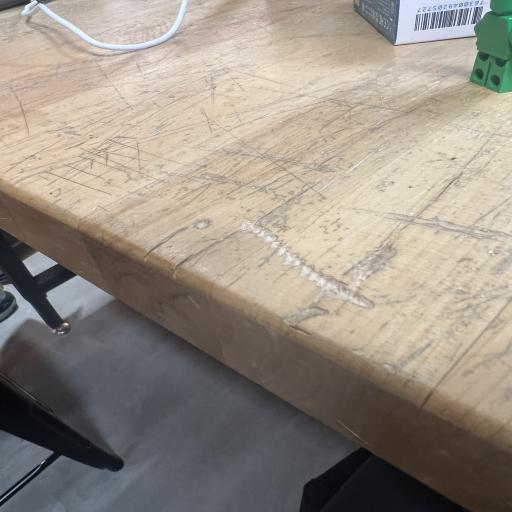green-lego-minifigure-detector: (470, 0, 512, 93)
